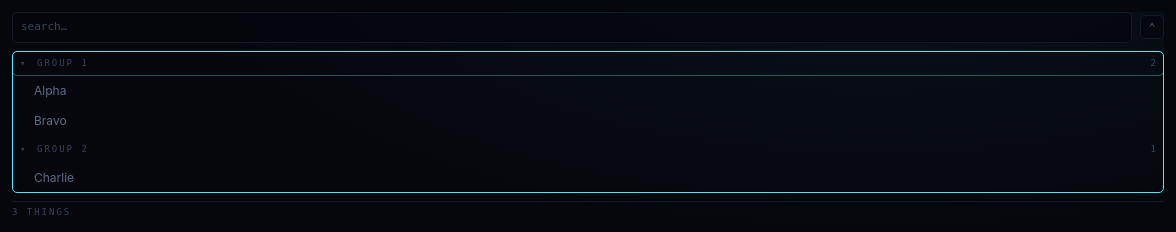
Test case: BrowserShell search folds (design §8.1) › reveals a folded group's matching rows while a query is active
Press ArrowLeft in the element showing "▾ Group 1 2 Alpha Bravo ▾ Group 2 1 Charlie", box [12,50,1164,192]
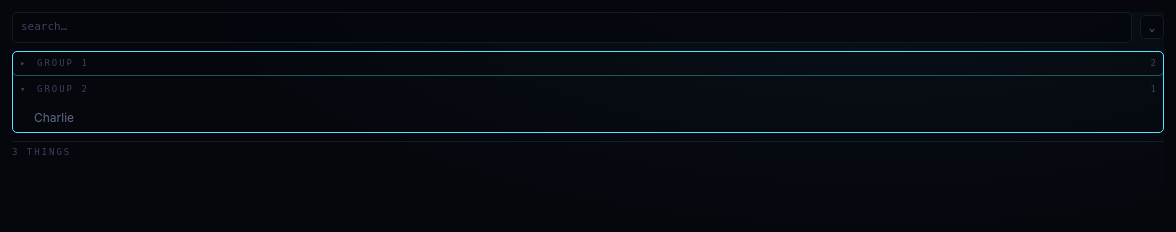
Result: the text "Alpha" is gone
Type "alpha" into the field at [572, 27], box [12,12,1132,42]
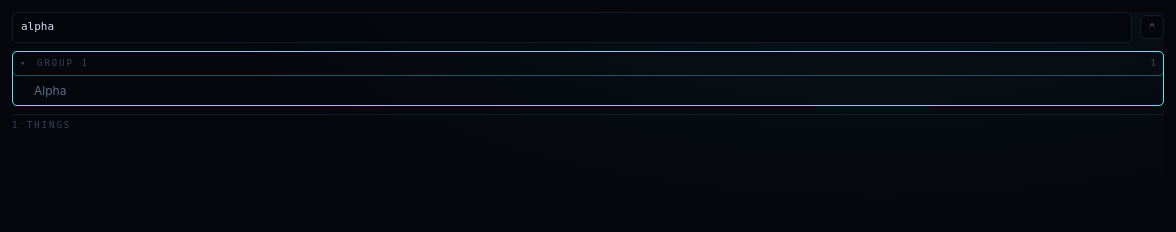
Result: the text "Alpha" is shown at [34,83,66,98]
